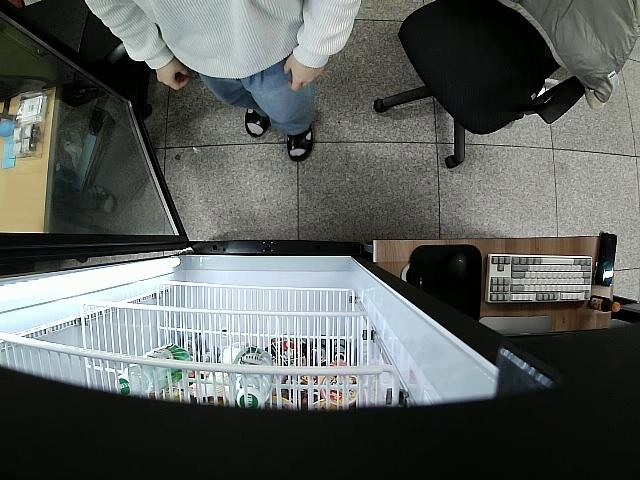00_hand: (282, 54, 325, 91), (154, 58, 192, 90)
